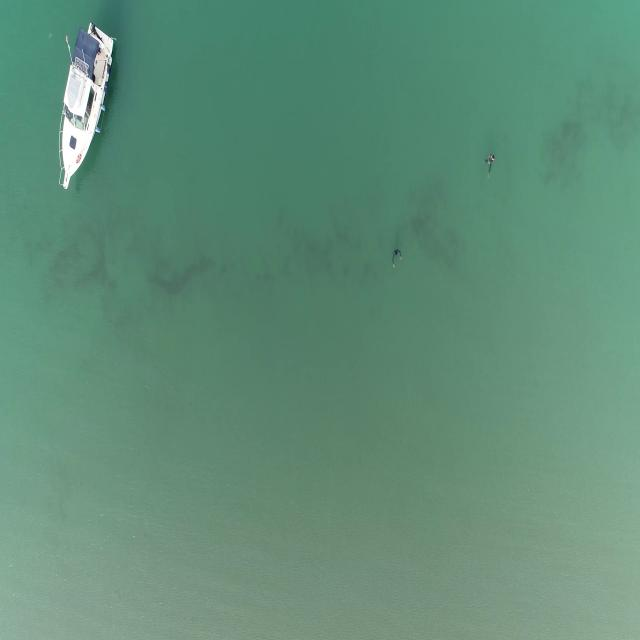boat: (57, 22, 118, 191)
person: (485, 151, 497, 179), (390, 246, 403, 269)
